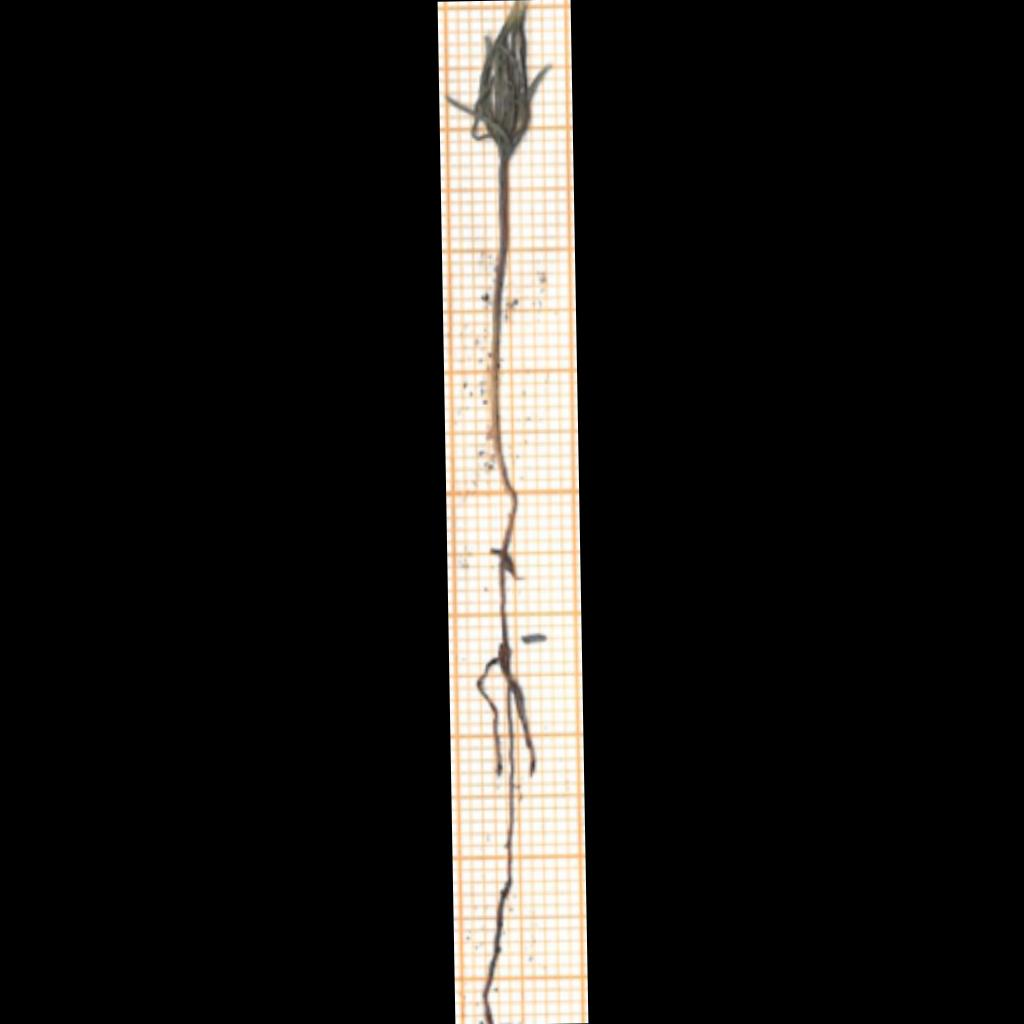flowerPinus: (463, 5, 548, 159)
rootPinus: (477, 635, 534, 1023)
stemPinus: (493, 156, 516, 645)
